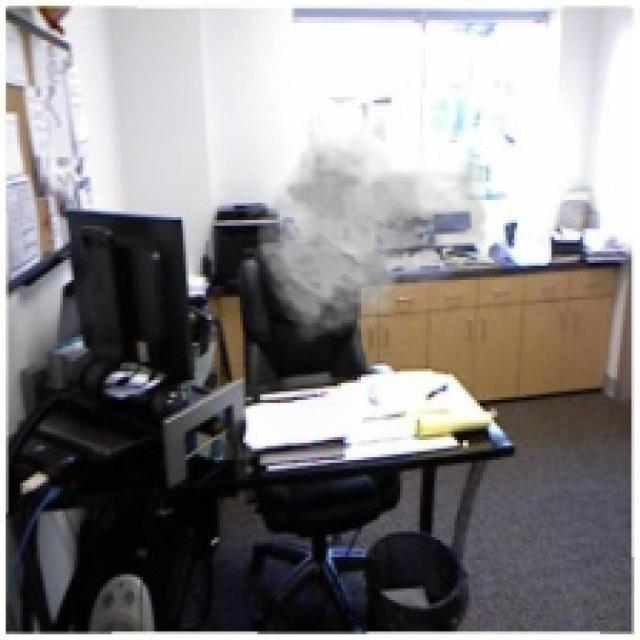smoke: (254, 123, 506, 343)
